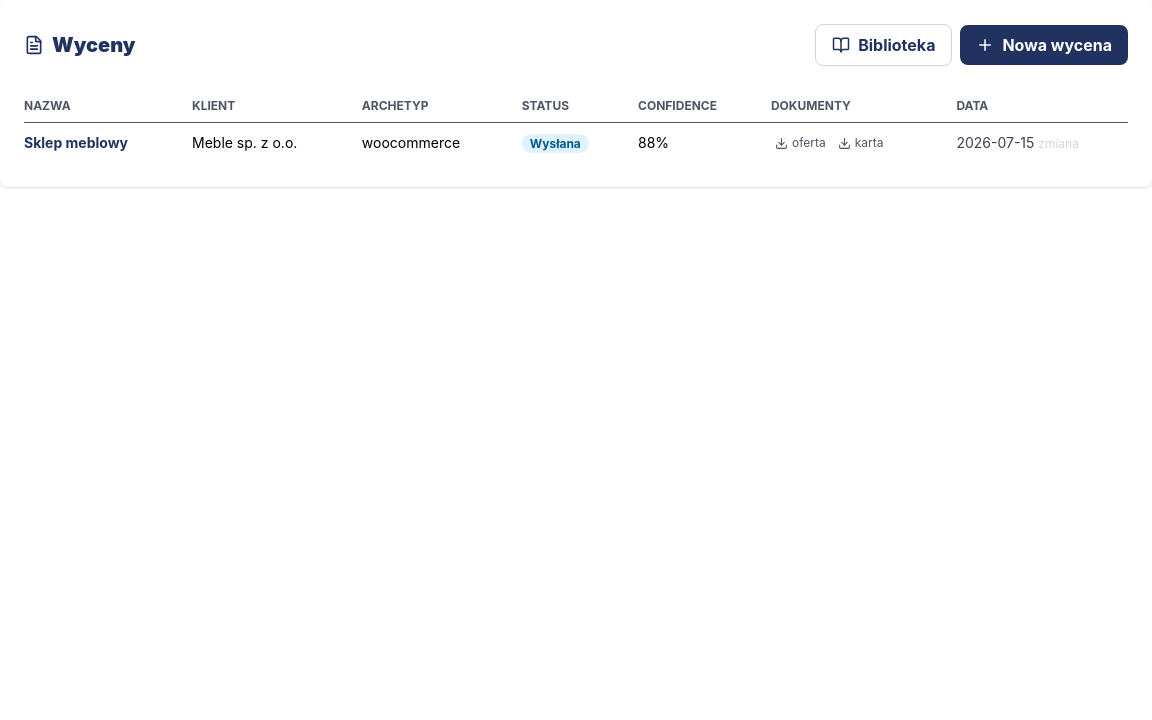
Test: f2b — rozstrzygnięcie › „Przegrana" NIE wysyła nic, dopóki nie ma powodu (docs/02)
Step 1. Click the text "Sklep meblowy" → (108, 143), box [24,122,192,163]
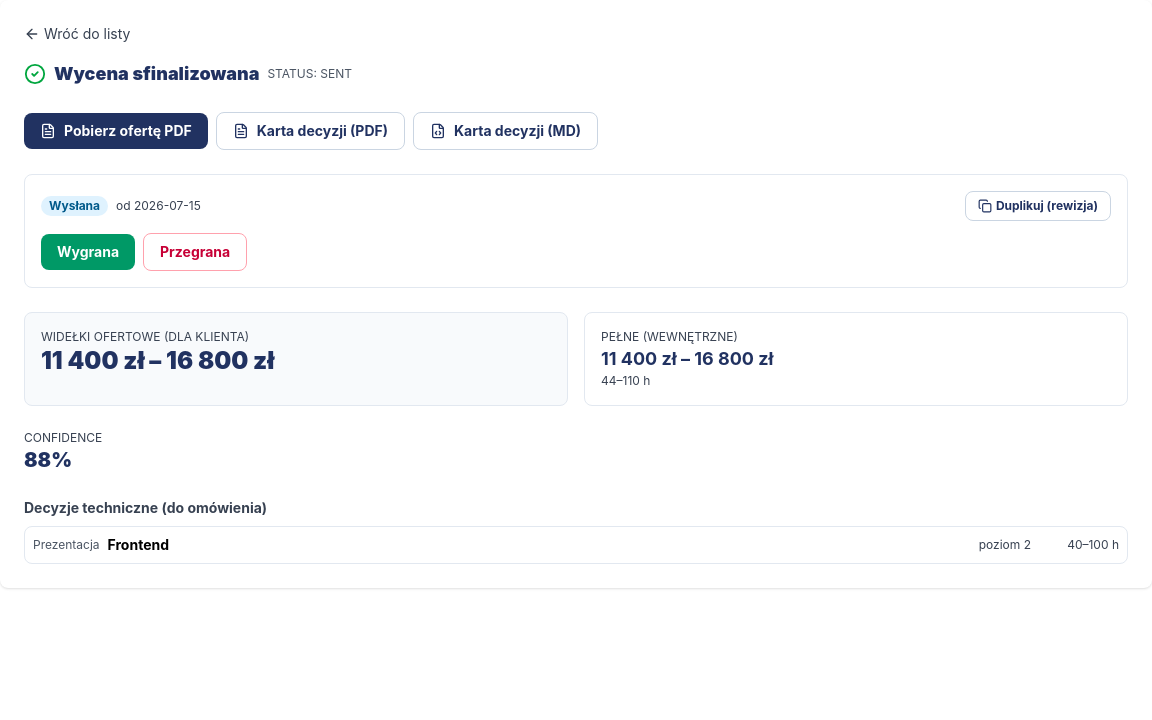
Step 2. Click the button "Przegrana" → (195, 252), box [143,233,247,271]
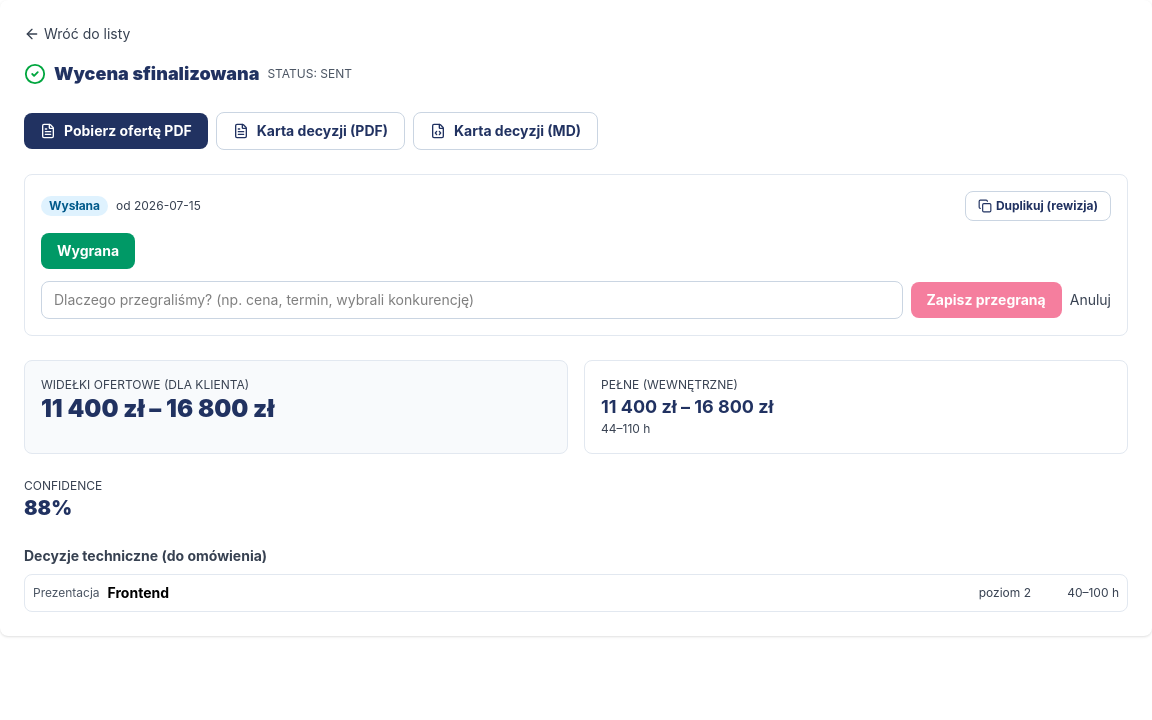
Expected: the button "Zapisz przegraną" is disabled, [911,282,1062,318]
Step 3. Replace the text in the field with placeholder "Dlaczego przegraliśmy" with "Klient wybrał tańszą ofertę" → (472, 300), box [41,281,903,319]
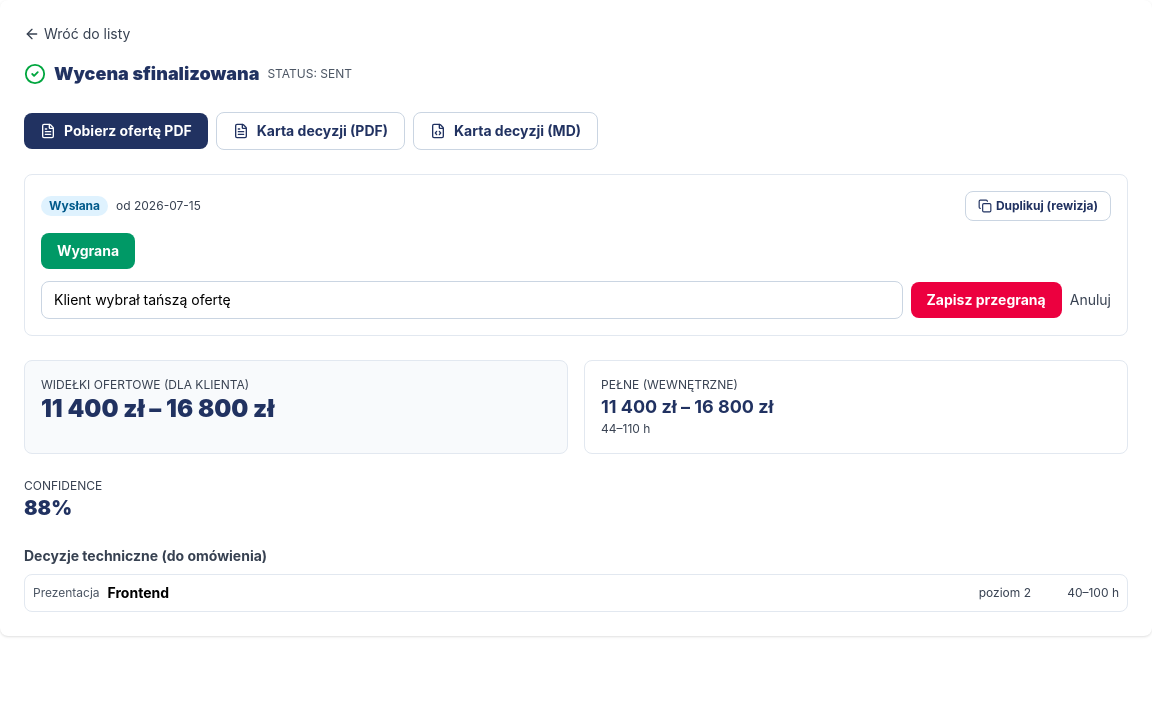
Expected: the button "Zapisz przegraną" is enabled, [911,282,1062,318]
